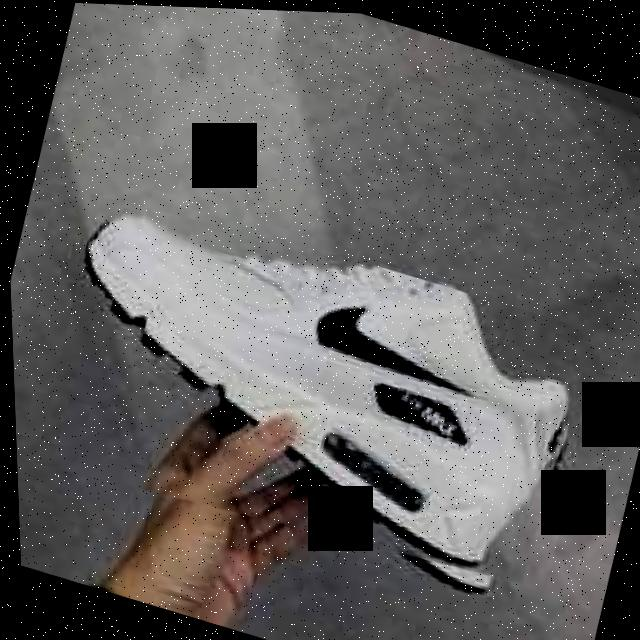shoe: (23, 179, 600, 610)
